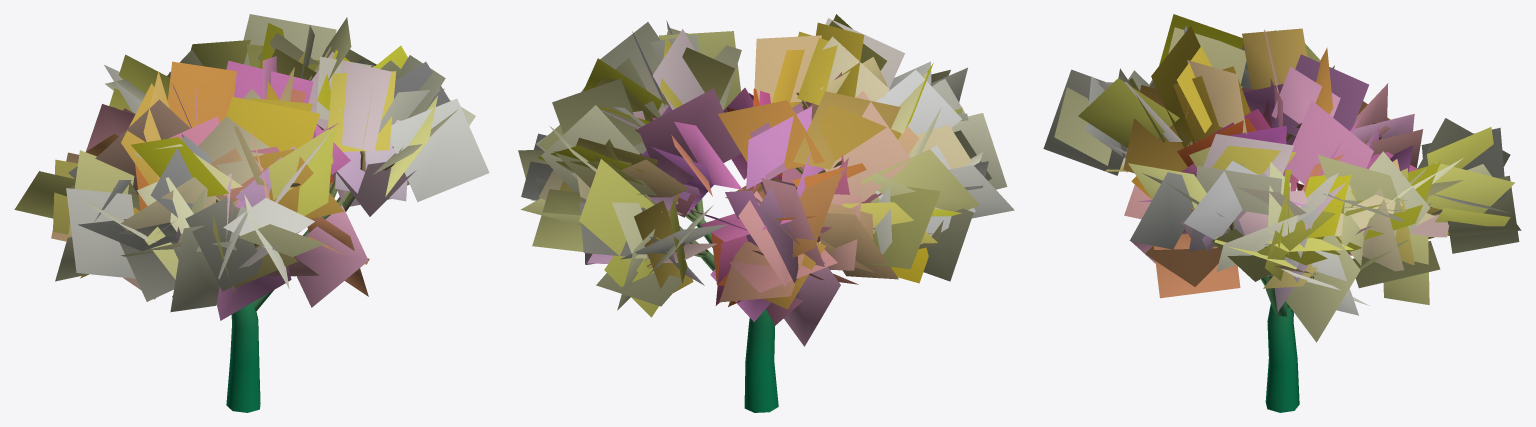
File: tree_oak_lod1.glb
3 renders of one model, left to right at view 1: azimuth 30°, elevation 25°; view 2: azimuth 150°, elevation 25°; view 3: azimuth 270°, elevation 25°, orthographic.
Visible parts, largest first — view 1: tree_oak_cards.001_lod1, tree_oak_bark.001_lod1; view 2: tree_oak_cards.001_lod1, tree_oak_bark.001_lod1; view 3: tree_oak_cards.001_lod1, tree_oak_bark.001_lod1.
Part boxes in pixels (x1,y1,x2,y2): tree_oak_cards.001_lod1: (14, 14, 489, 320); tree_oak_bark.001_lod1: (215, 151, 394, 412); tree_oak_cards.001_lod1: (518, 14, 1014, 346); tree_oak_bark.001_lod1: (644, 92, 842, 412); tree_oak_cards.001_lod1: (1043, 14, 1521, 342); tree_oak_bark.001_lod1: (1180, 123, 1431, 412).
Bounding box in the file's own units: 14.44 × 11.52 × 14.17.
